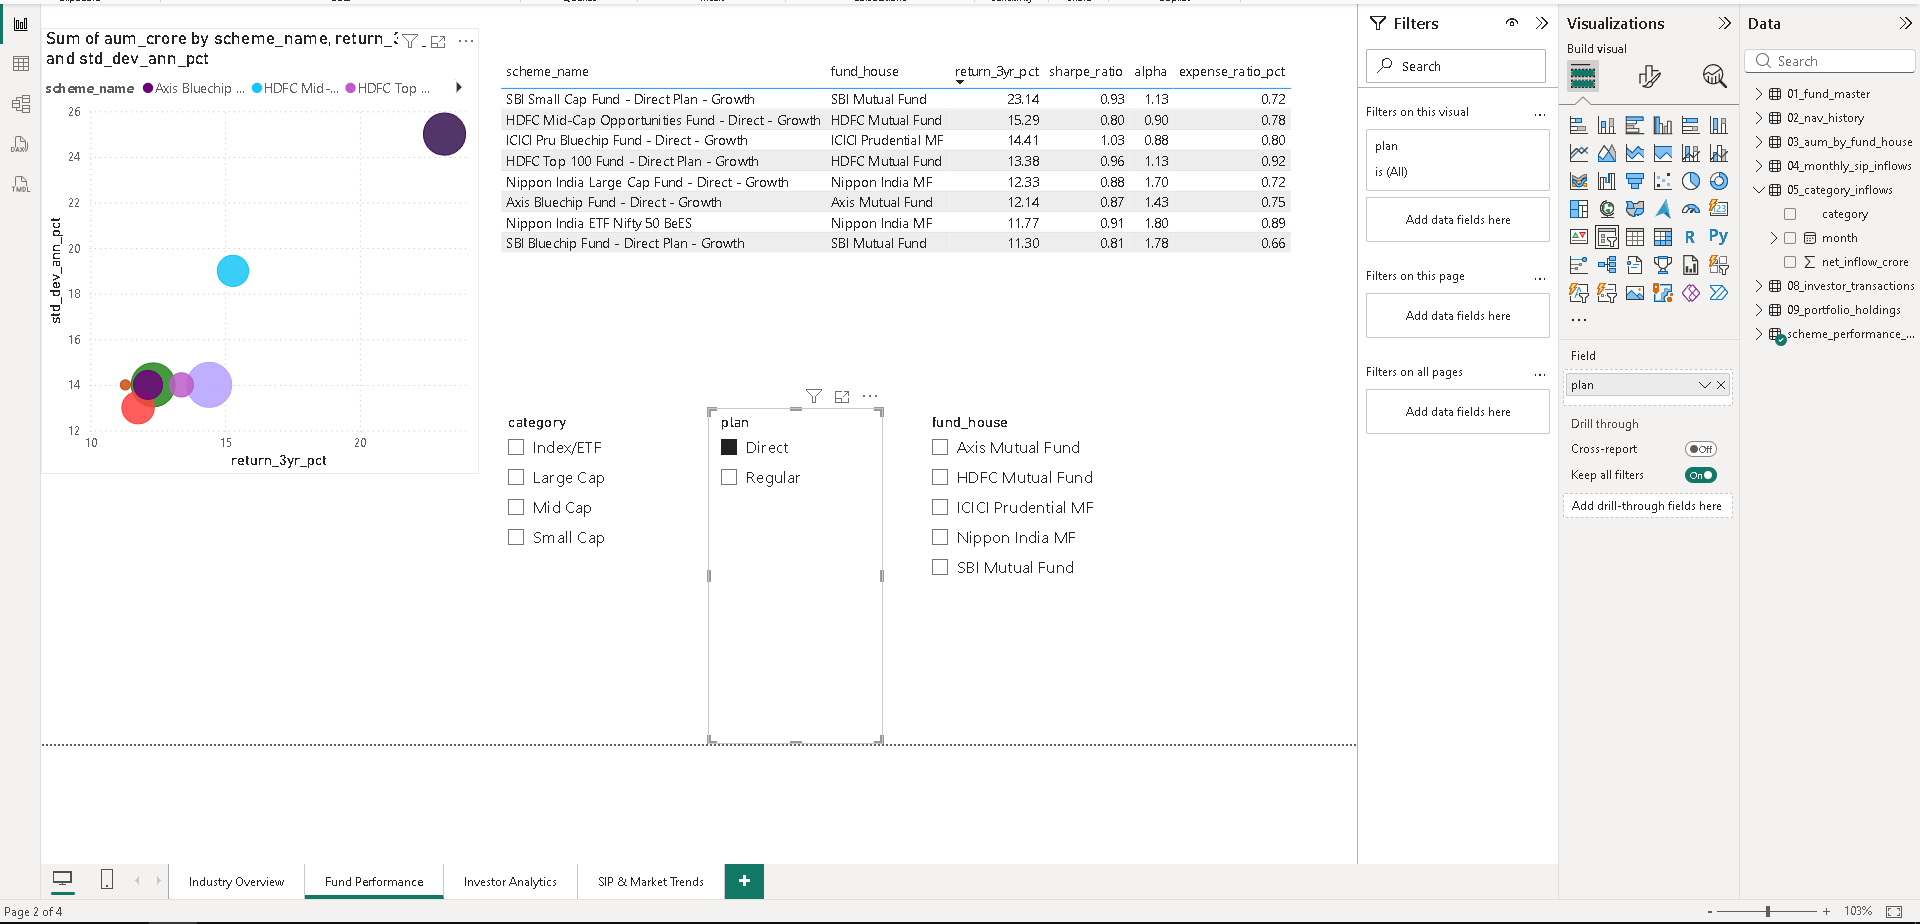

What the dashboard file says about the page in this screenshot:
{"tool":"powerbi","page":{"name":"Fund Performance","canvas":[1280,720],"ordinal":1},"visuals":[{"type":"scatterChart","fields":{"X":["scheme_performance_cleaned.return_3yr_pct"],"Y":["scheme_performance_cleaned.std_dev_ann_pct"],"Series":["scheme_performance_cleaned.scheme_name"],"Size":["Sum(scheme_performance_cleaned.aum_crore)"]},"box":[0,23.3,426,433.8],"z":0},{"type":"tableEx","fields":{"Values":["scheme_performance_cleaned.scheme_name","scheme_performance_cleaned.fund_house","scheme_performance_cleaned.return_3yr_pct","scheme_performance_cleaned.sharpe_ratio","scheme_performance_cleaned.alpha","scheme_performance_cleaned.expense_ratio_pct"]},"box":[441.6,49.6,838.4,326.8],"z":1000},{"type":"slicer","fields":{"Values":["scheme_performance_cleaned.fund_house"]},"box":[854,392.9,426,326.8],"z":2000},{"type":"slicer","fields":{"Values":["scheme_performance_cleaned.category"]},"box":[441.6,392.9,207.2,326.8],"z":3000},{"type":"slicer","fields":{"Values":["scheme_performance_cleaned.plan"]},"box":[648.8,392.9,170.2,326.8],"z":4000}]}

Visuals, with their boxes on the page's 1280x720 design canvas (x1, y1, x2, y2). These are canvas units, not pixel positions in the 1920x924 screenshot, which may show the page scaled, cropped or inside an application window:
scatterChart - scheme_performance_cleaned.return_3yr_pct x scheme_performance_cleaned.std_dev_ann_pct: 0/23/426/457
tableEx - scheme_performance_cleaned.scheme_name x scheme_performance_cleaned.fund_house: 442/50/1280/376
slicer - scheme_performance_cleaned.fund_house: 854/393/1280/720
slicer - scheme_performance_cleaned.category: 442/393/649/720
slicer - scheme_performance_cleaned.plan: 649/393/819/720
